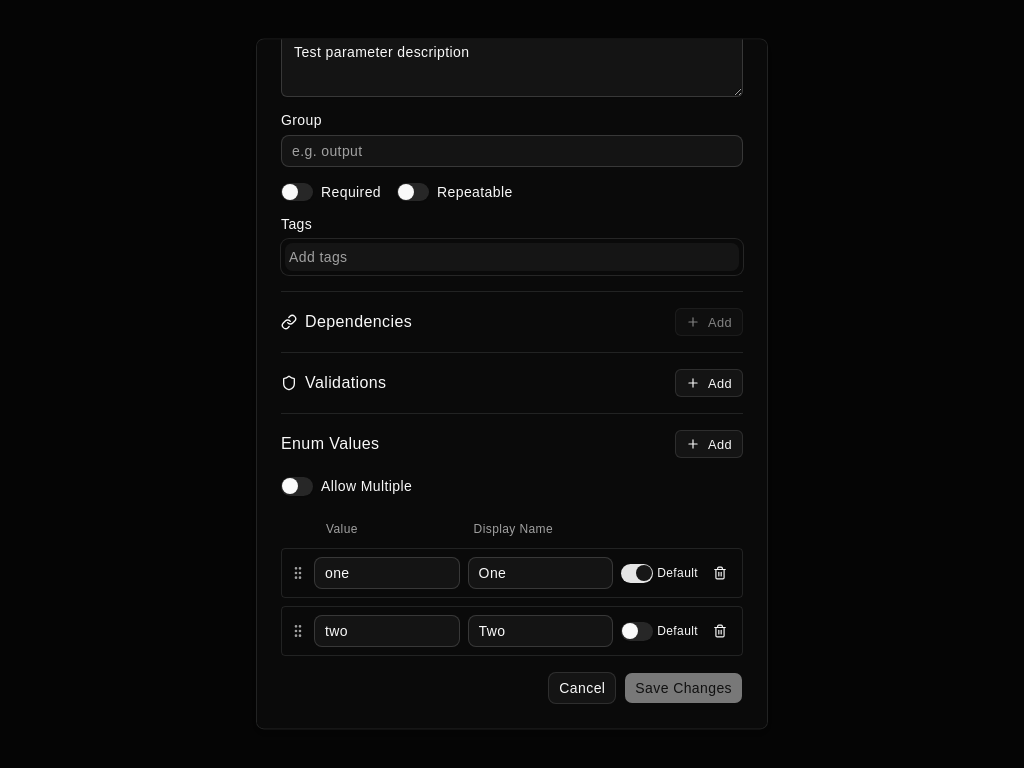
Test: ParameterDetailsDialog - Enum Section › makes isDefault selection mutually exclusive across enum value rows
(page scrolled)
Expected: the 4th switch is checked, [621, 565, 653, 583]
What coordinates should you click on to do the following:
click the 5th switch
I would click on:
 (637, 632)
Its box is [621, 623, 653, 641].
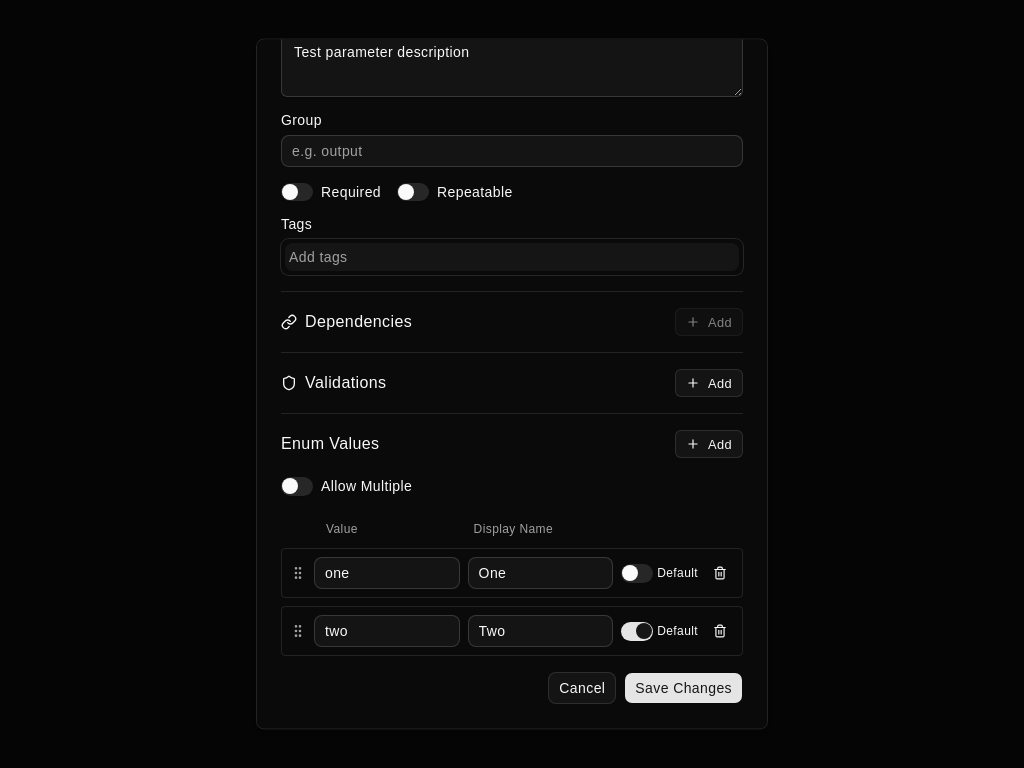
Expected: the 5th switch is checked, [621, 623, 653, 641]
Expected: the 4th switch is not checked, [621, 565, 653, 583]
